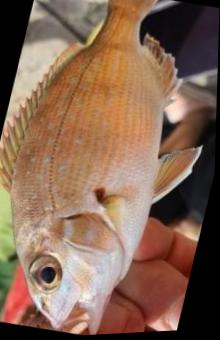fish: (0, 0, 203, 335)
